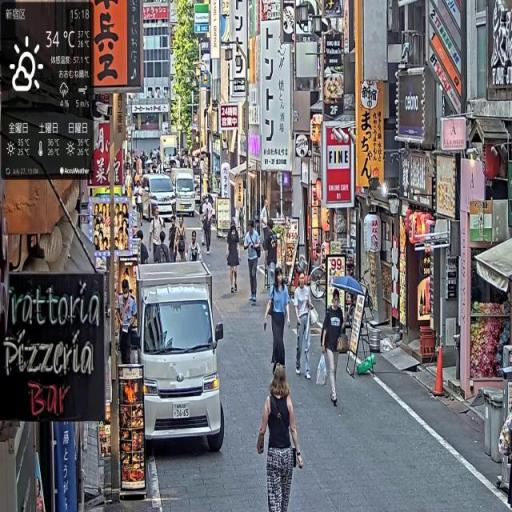person: (256, 364, 305, 512), (320, 288, 346, 409), (264, 266, 292, 378), (295, 268, 316, 385), (245, 220, 264, 305), (227, 222, 242, 296), (150, 205, 166, 267), (201, 193, 215, 255), (176, 216, 189, 263)
